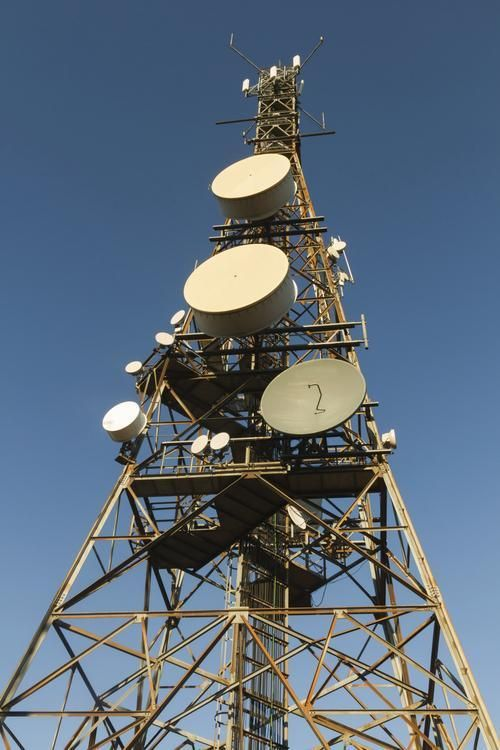a: (242, 78, 249, 93), (293, 56, 300, 67), (268, 67, 275, 75)
b: (186, 244, 284, 330), (208, 153, 294, 216), (104, 400, 139, 438), (190, 434, 209, 451), (124, 361, 146, 375), (156, 330, 172, 345), (214, 432, 227, 450), (329, 247, 336, 256)
